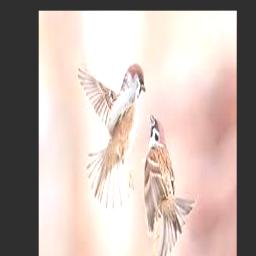Sparrow: (77, 64, 146, 211), (145, 113, 197, 256)
